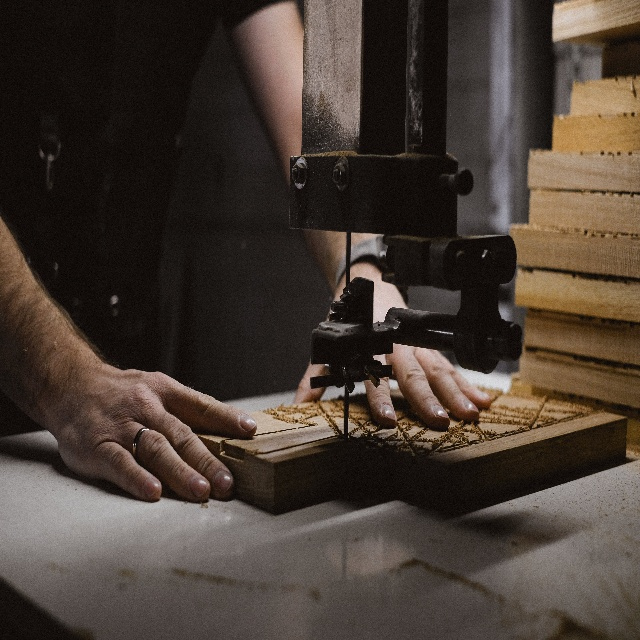Sin_guantes: (291, 263, 494, 431), (57, 367, 258, 505)
